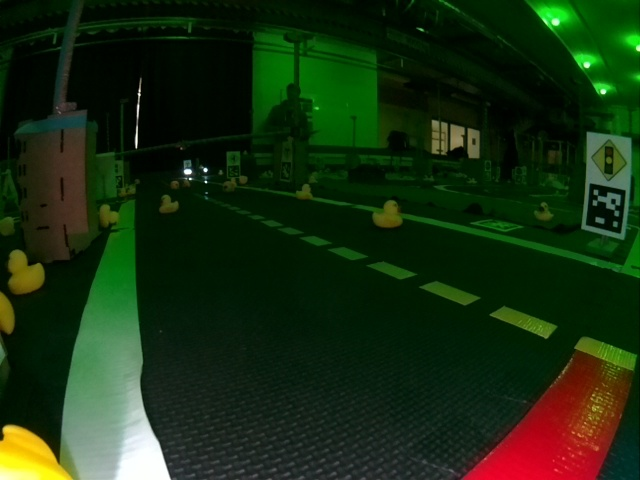Duckie: (7, 250, 45, 294), (372, 201, 402, 227), (159, 195, 179, 213), (534, 203, 553, 221), (101, 205, 118, 225), (296, 184, 312, 200), (0, 217, 14, 233), (170, 180, 180, 190), (223, 181, 234, 190), (238, 175, 248, 183)
Duckiebot: (184, 168, 194, 178), (201, 166, 208, 175)
Intersection sign: (283, 144, 293, 160), (228, 153, 239, 164)
QR code: (583, 188, 625, 235), (471, 219, 523, 231), (280, 163, 292, 180), (227, 165, 240, 178)
Signal sign: (590, 137, 628, 181)
